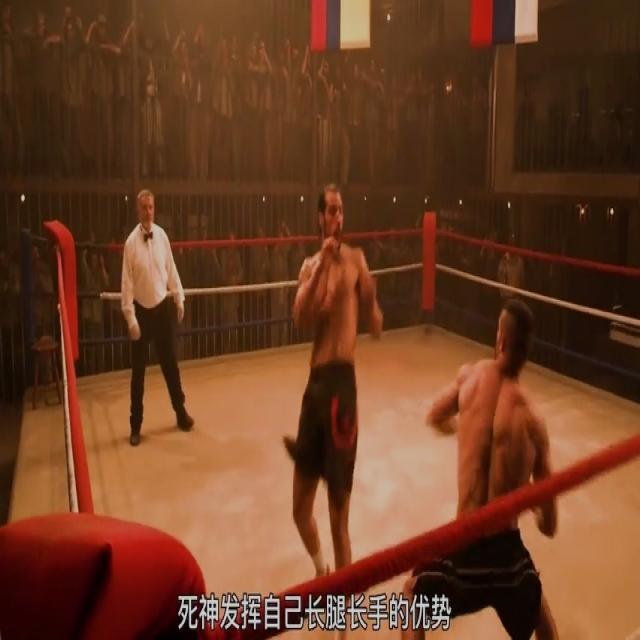fight: (290, 184, 558, 640)
non-fight: (120, 186, 193, 446)
